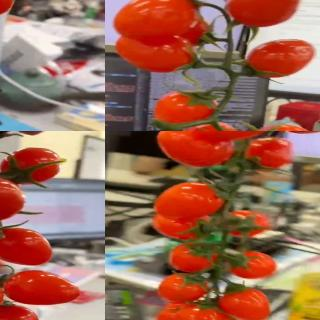tomato: (115, 0, 199, 43), (112, 32, 200, 72), (239, 39, 315, 80), (157, 131, 236, 168), (152, 182, 228, 220), (0, 269, 82, 304), (0, 146, 64, 185), (155, 91, 220, 128), (0, 226, 54, 266), (225, 0, 305, 25), (239, 135, 296, 170), (217, 286, 272, 320), (151, 210, 208, 242), (169, 241, 221, 274), (156, 273, 210, 303), (226, 250, 278, 280), (224, 211, 276, 239), (0, 175, 25, 223), (155, 303, 203, 320), (197, 131, 276, 141), (176, 306, 223, 320), (0, 304, 41, 320), (182, 122, 245, 131)
